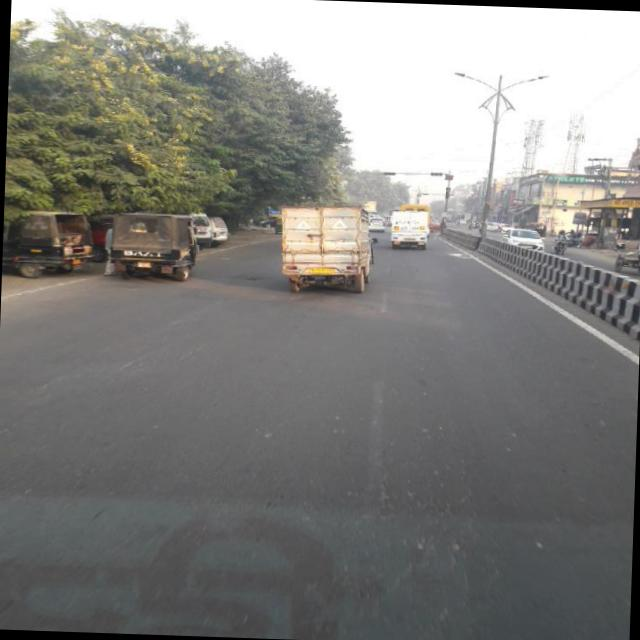crack: (270, 434, 511, 622)
